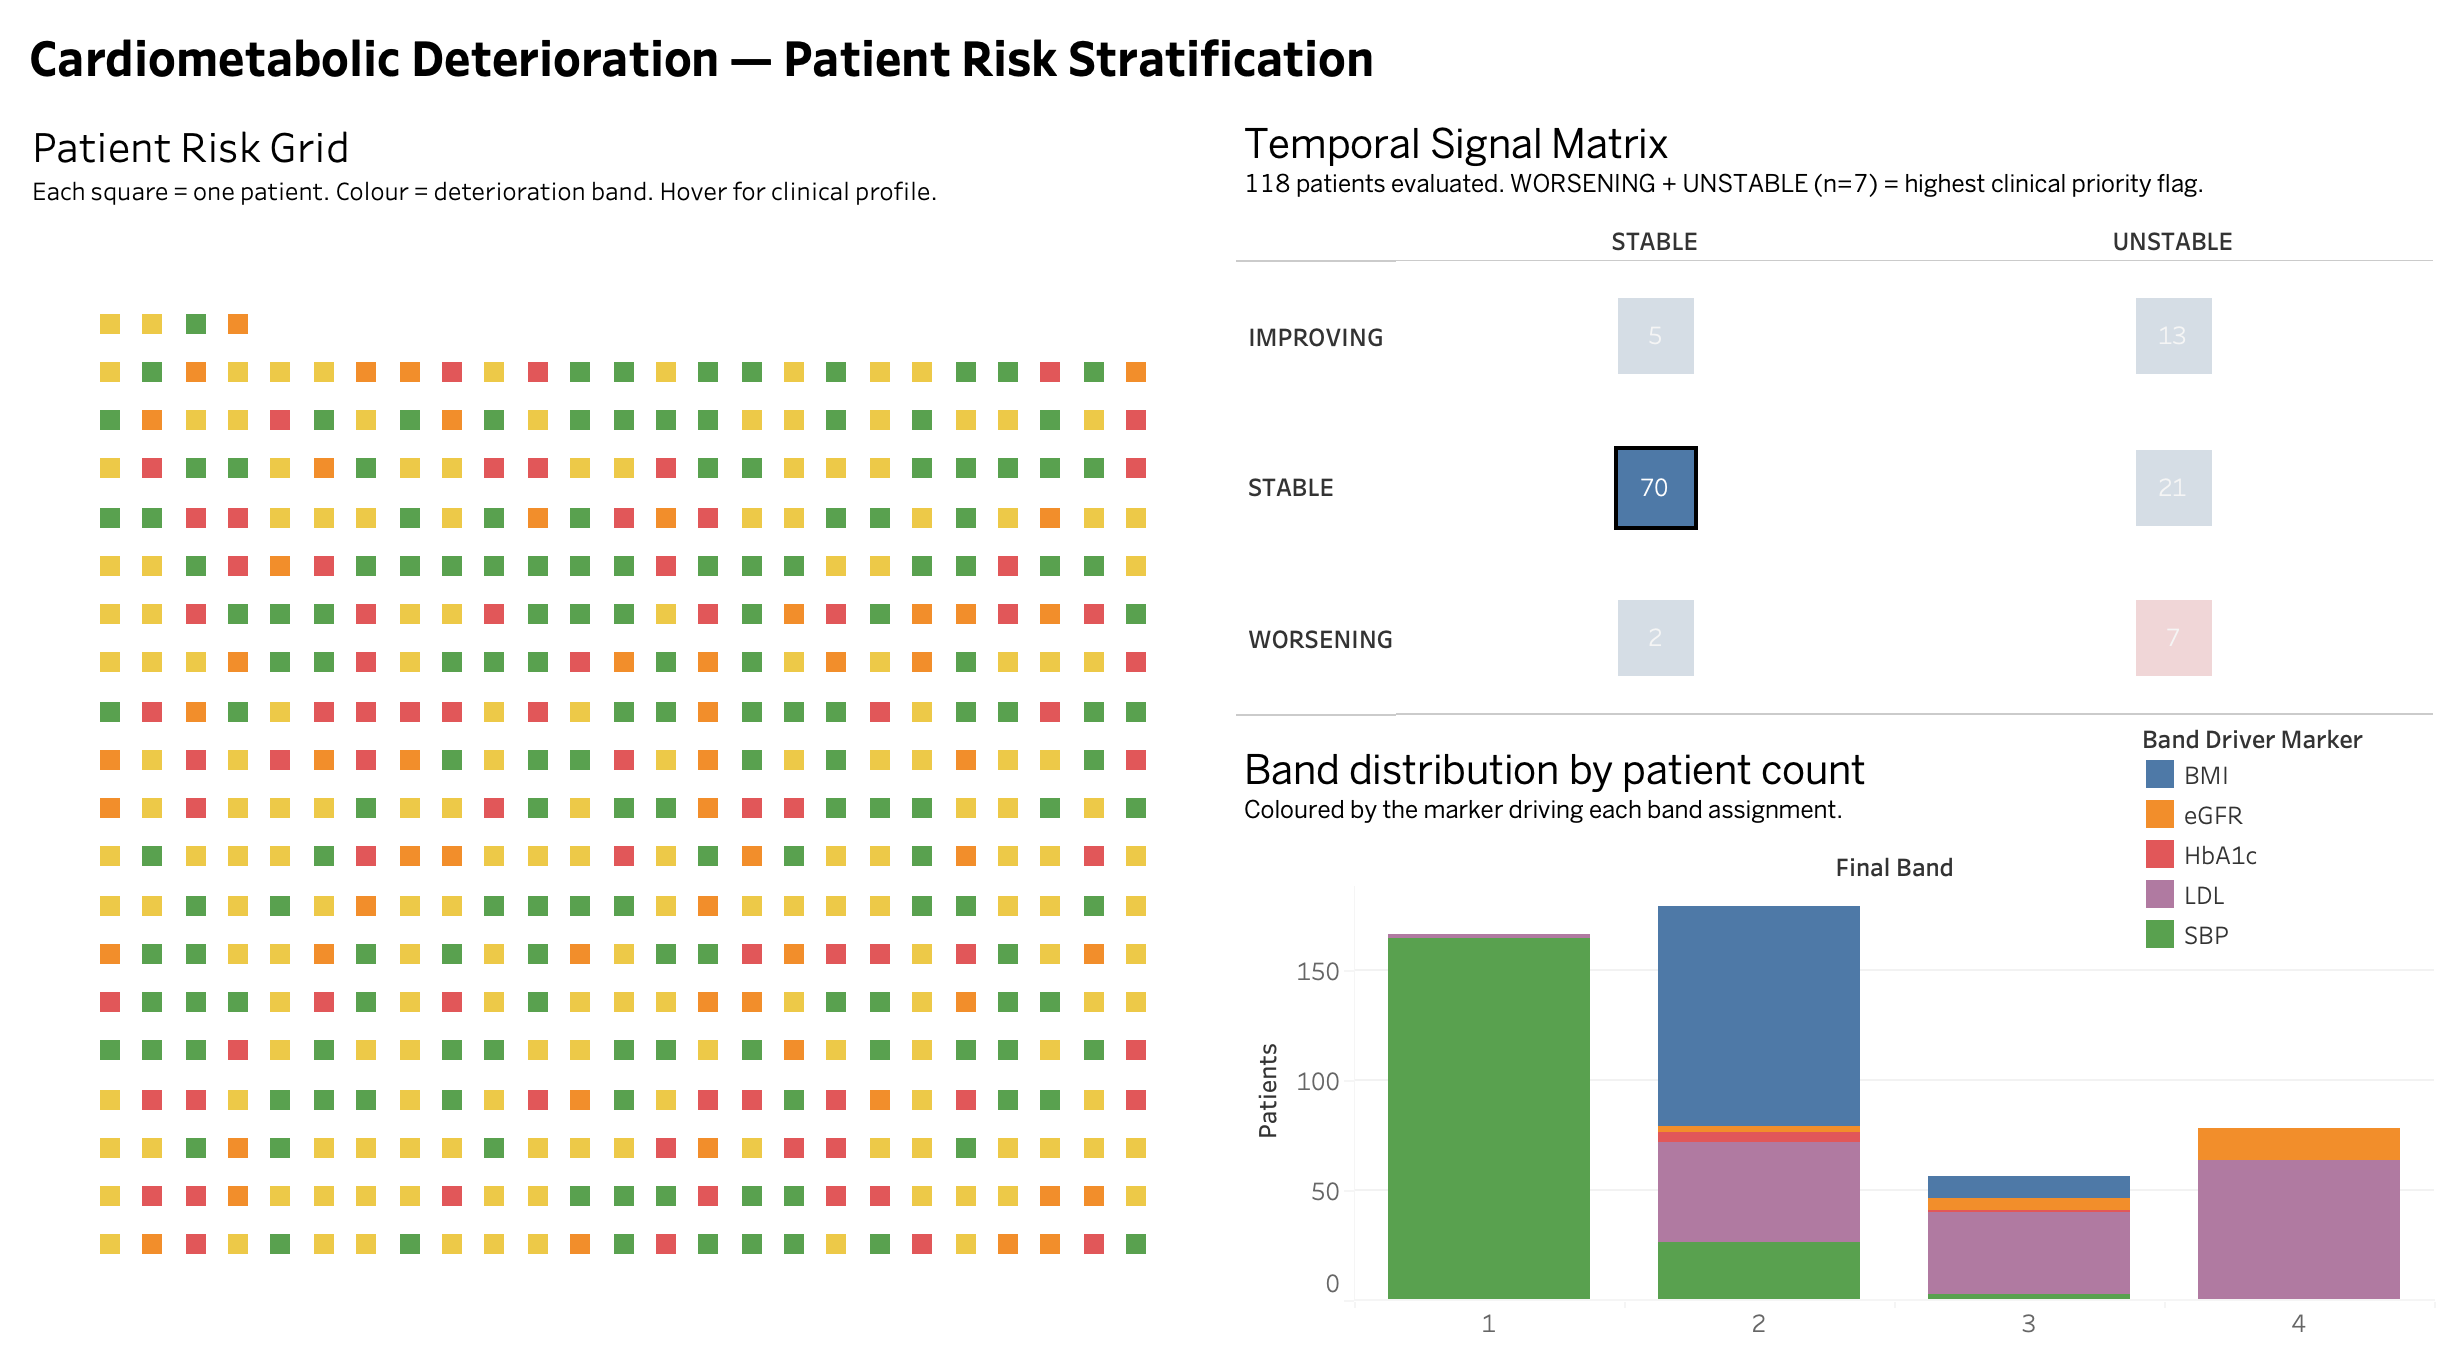

This screenshot's page, from the dashboard's own definition file:
{"tool":"tableau","page":{"name":"Dashboard 2","canvas":[1000,800],"ordinal":1},"visuals":[{"type":"title","box":[8,8,984,41]},{"type":"worksheet","title":"Sheet 29","mark":"Square","rows":["grid_y"],"cols":["grid_x"],"box":[8,49,492,743]},{"type":"worksheet","title":"Sheet 27","mark":"Square","rows":["system_trajectory"],"cols":["system_variance"],"box":[500,49,492,371.5]},{"type":"worksheet","title":"Sheet 28","mark":"Automatic","rows":["patient_id"],"cols":["final_band"],"box":[500,420.5,492,371.5]},{"type":"legend","title":"Sheet 28","param":"[federated.0i9e5k403ye1er12ct48q13gb3hn].[none:band_driver_marker:nk]","box":[871,421,113,129]}]}

Visuals, with their boxes on the page's 1000x800 design canvas (x1, y1, x2, y2). These are canvas units, not pixel positions in the 2458x1366 screenshot, which may show the page scaled, cropped or inside an application window:
title: (x1=8, y1=8, x2=992, y2=49)
"Sheet 29" worksheet (Square marks): (x1=8, y1=49, x2=500, y2=792)
"Sheet 27" worksheet (Square marks): (x1=500, y1=49, x2=992, y2=420)
"Sheet 28" worksheet: (x1=500, y1=420, x2=992, y2=792)
"Sheet 28" legend: (x1=871, y1=421, x2=984, y2=550)
